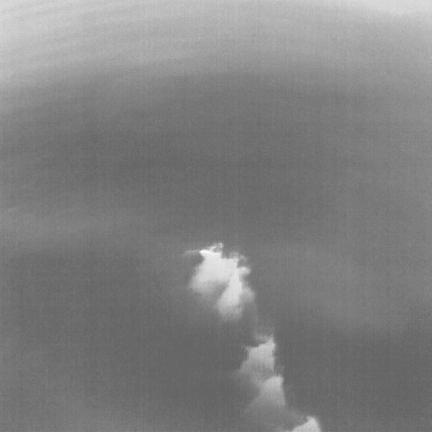flukeprints: (190, 243, 252, 320), (239, 337, 277, 387), (250, 375, 285, 418), (291, 417, 321, 431)
